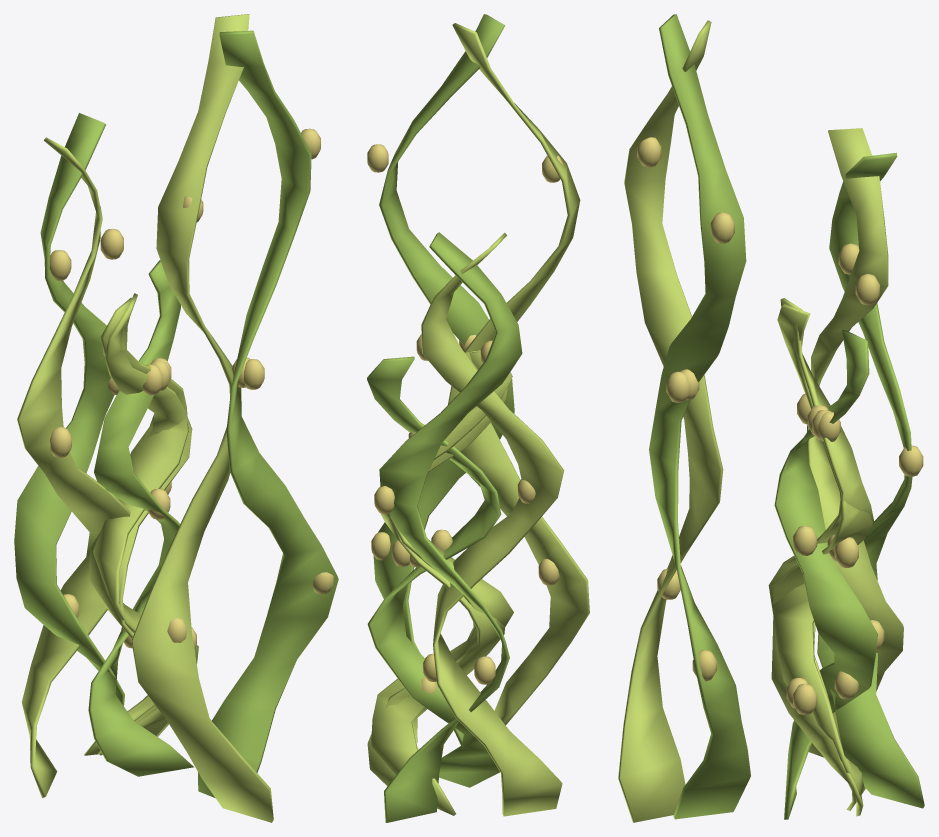
The model's file is E06_Kelp_Forest.glb.
3 renders of one model, left to right at view 1: azimuth 30°, elevation 25°; view 2: azimuth 150°, elevation 25°; view 3: azimuth 270°, elevation 25°, orthographic. The views are drawn at different scales.
Visible parts, largest first — view 1: E06_Kelp_Forest_Mesh; view 2: E06_Kelp_Forest_Mesh; view 3: E06_Kelp_Forest_Mesh.
Boxes of the visible parts, <box> form: E06_Kelp_Forest_Mesh: <box>14,14,338,822</box>; E06_Kelp_Forest_Mesh: <box>367,14,589,822</box>; E06_Kelp_Forest_Mesh: <box>618,14,924,822</box>.
Bounding box in the file's own units: 1.45 × 4.11 × 1.44.
